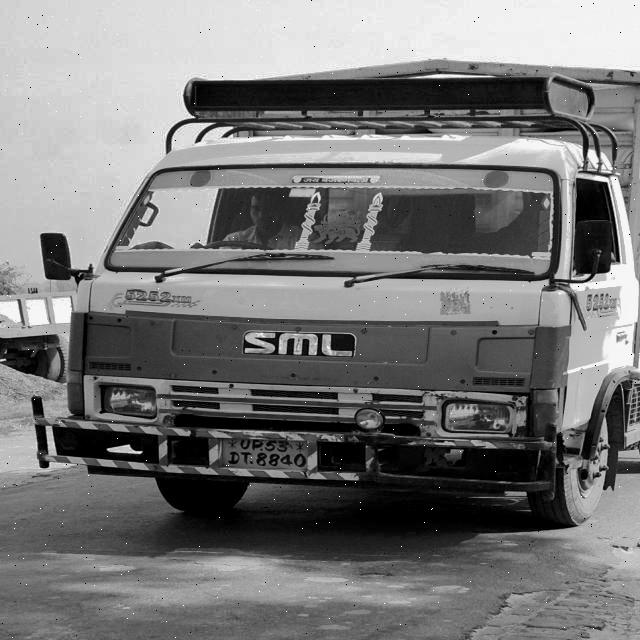HCV: (59, 99, 640, 541)
